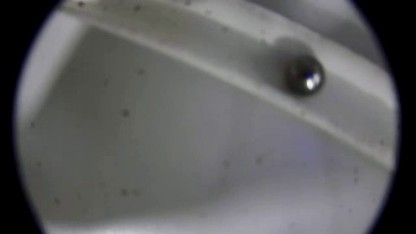gangzhu: (285, 54, 321, 95)
